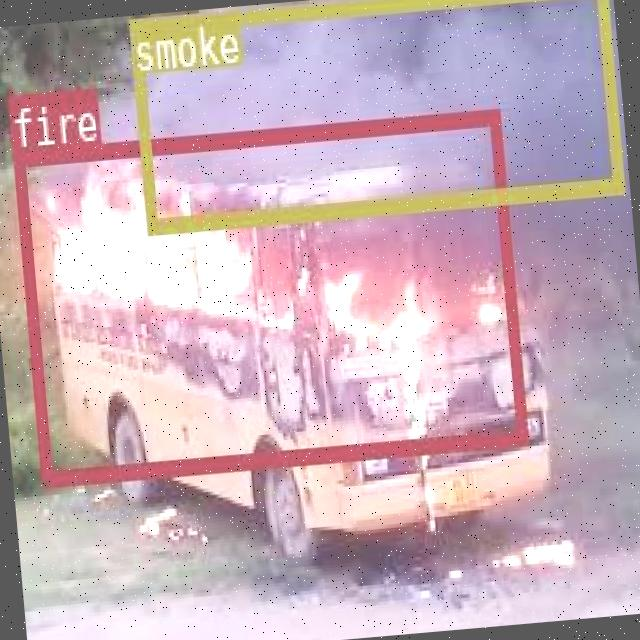fire: (9, 109, 526, 482)
smoke: (126, 0, 621, 231)
